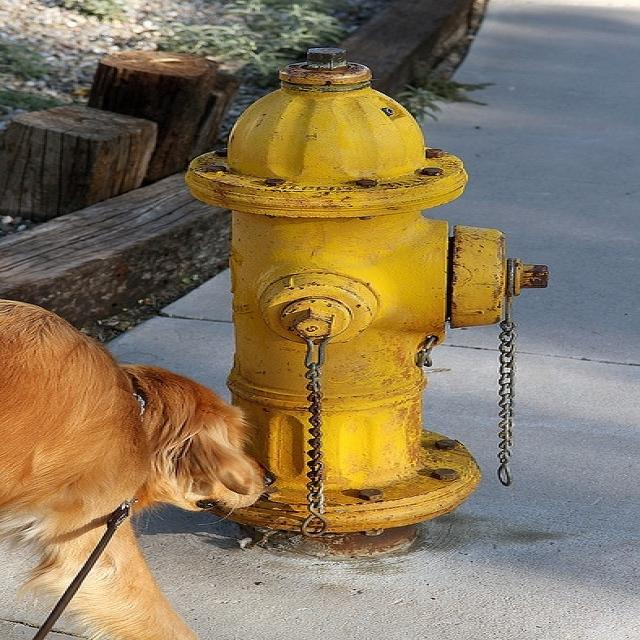fire_hydrant: (132, 43, 522, 537)
